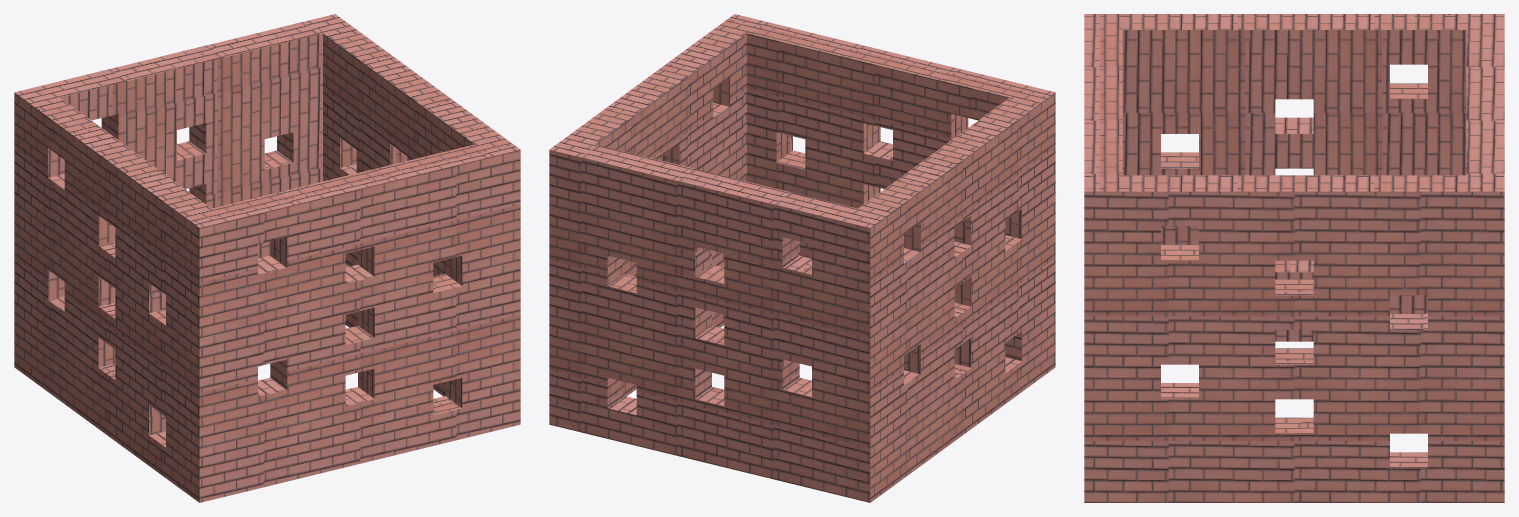
File: 2-2BLD.fbx
The picture shows the model from 3 angles, left to right: view 1: azimuth 30°, elevation 25°; view 2: azimuth 150°, elevation 25°; view 3: azimuth 270°, elevation 25°; orthographic projection. The views are drawn at different scales.
Visible parts, largest first — view 1: Cube; view 2: Cube; view 3: Cube.
Part boxes in pixels (left/top/right/bottom): Cube: left=14, top=14, right=520, bottom=502; Cube: left=549, top=14, right=1055, bottom=502; Cube: left=1084, top=14, right=1504, bottom=502.
Bounding box in the file's own units: 1100 × 900 × 1100.
Materials: 1 (1 with a texture image).
